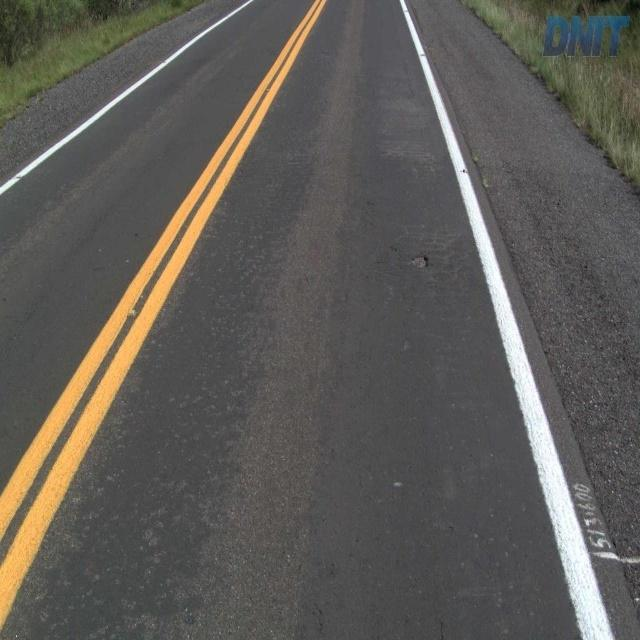pothole: (403, 239, 446, 284)
